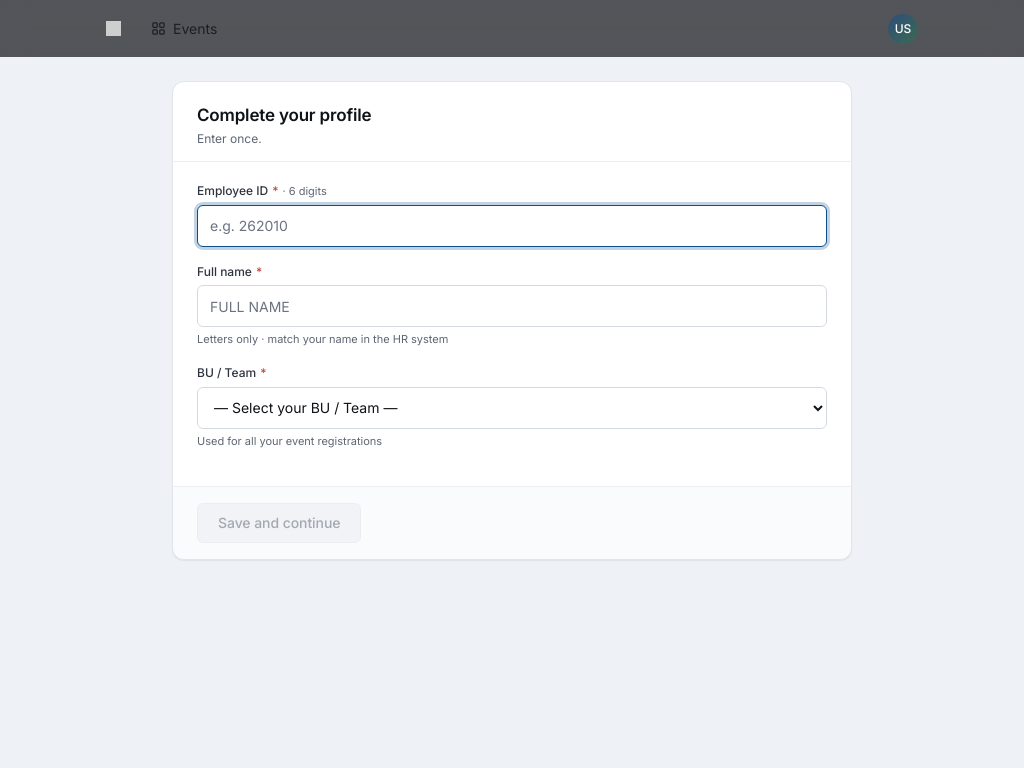
Test: ProfileScreen — first-login gate / edit profile › keeps submit disabled until empCode + name + BU are all valid
The image size is (1024, 768).
Check: the heading "Complete your profile" is shown, box [197,105,371,125]
Check: the button "Save and continue" is disabled, box [197,503,361,543]
Type "262010" into the field labelled "Employee ID * · 6 digits" at (512, 226), box [197,204,827,246]
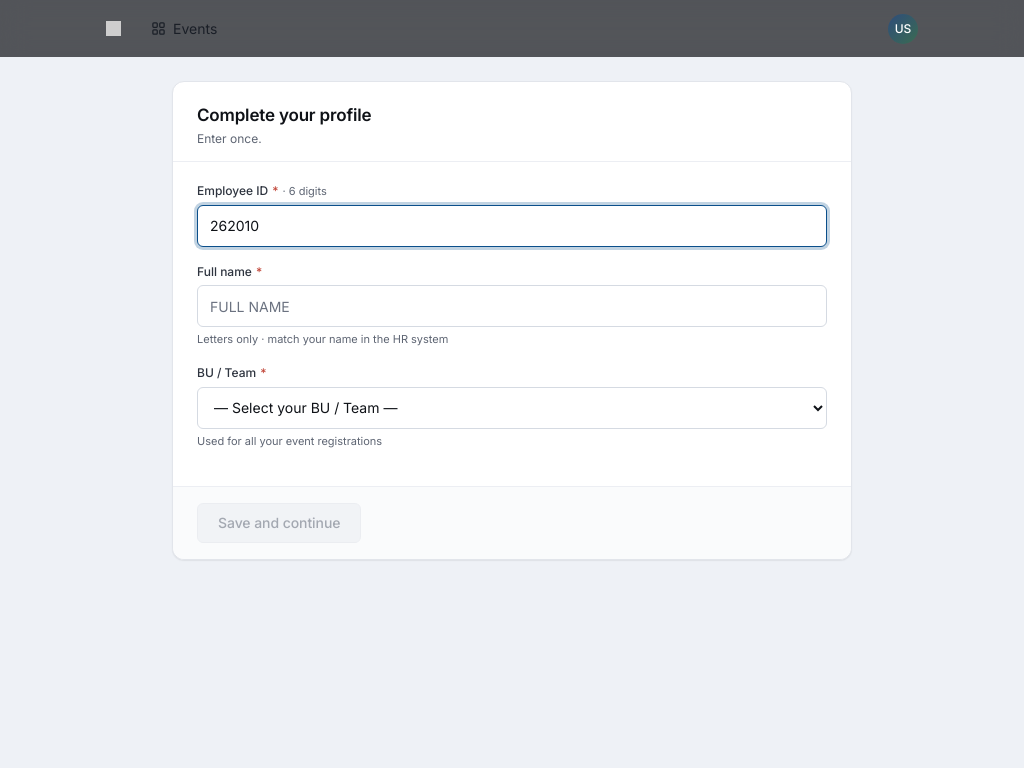
Check: the button "Save and continue" is disabled, box [197,503,361,543]
Type "AB" into the field labelled "Full name *" at (512, 306), box [197,285,827,327]
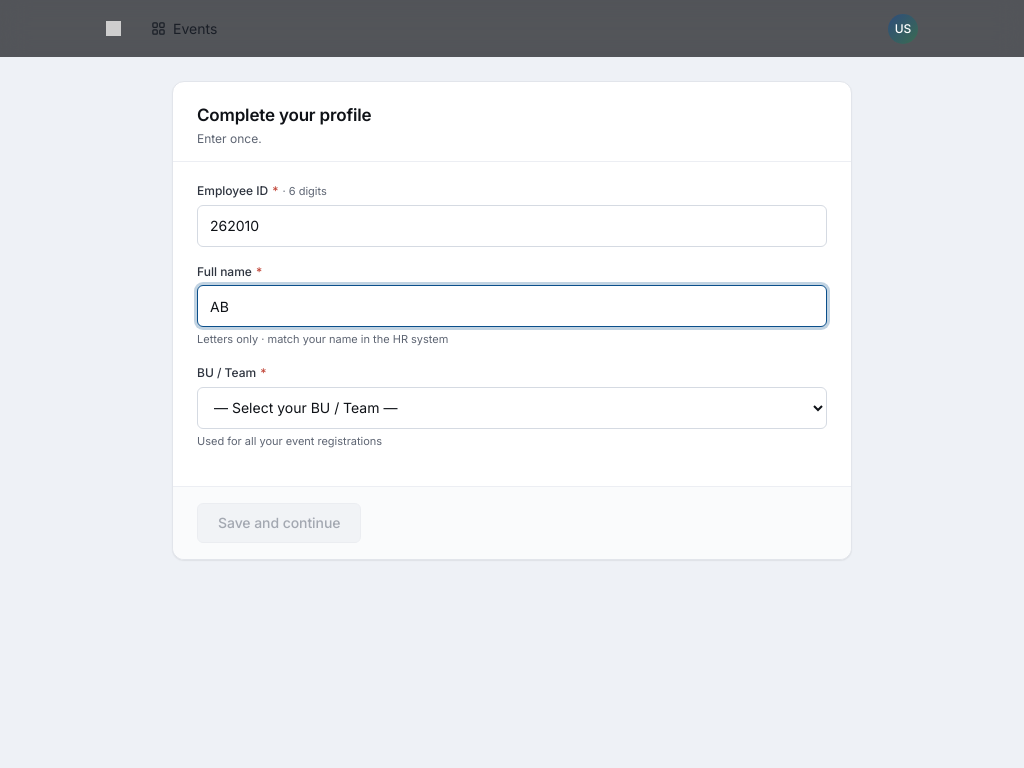
Select "BSG" in the dropdown labelled "BU / Team *" at (512, 408), box [197,387,827,429]
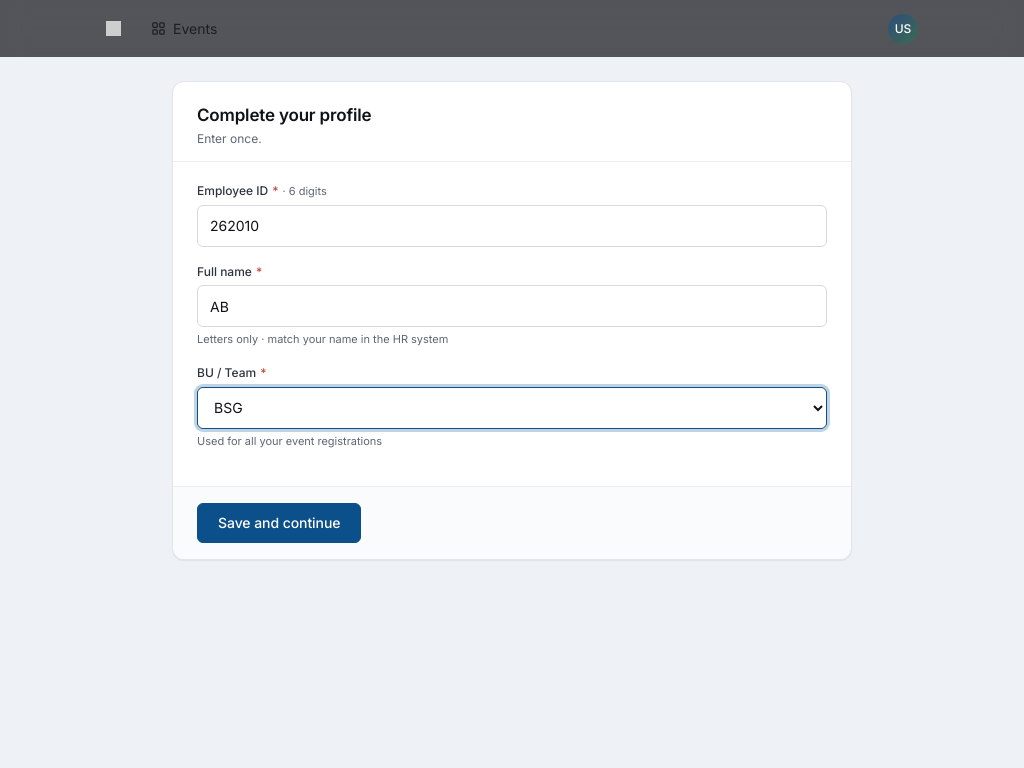
Check: the button "Save and continue" is enabled, box [197,503,361,543]
